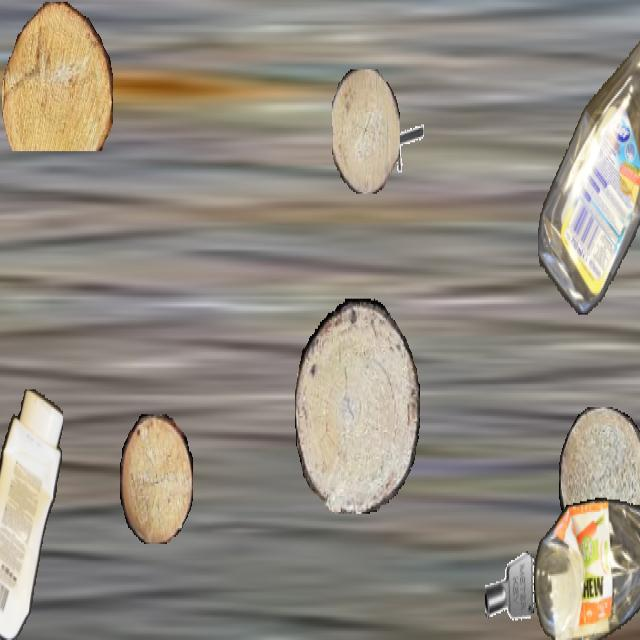metal: (485, 544, 535, 633), (386, 108, 424, 176)
plastic: (538, 2, 640, 314), (0, 390, 62, 638), (534, 496, 640, 638)
wood: (295, 299, 419, 512), (2, 2, 112, 151), (559, 407, 640, 557), (120, 414, 192, 542), (332, 69, 400, 194)
